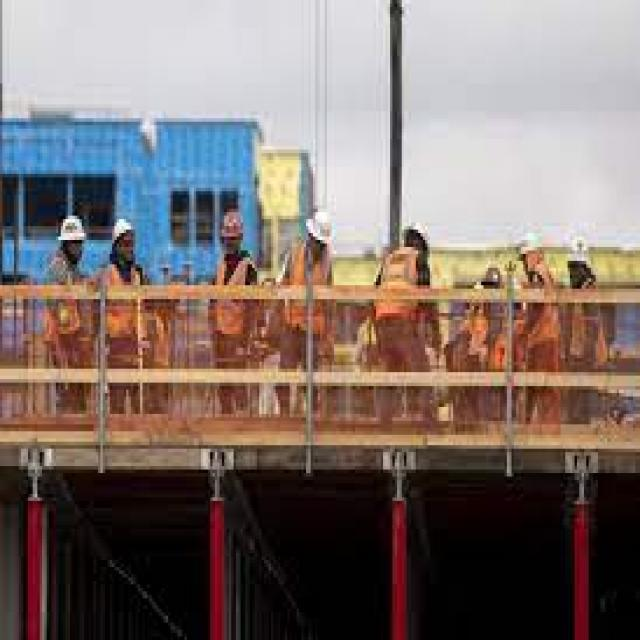Reflective-Jacket: (280, 249, 338, 349), (372, 243, 428, 341), (103, 258, 147, 358), (210, 250, 255, 344), (566, 279, 607, 370), (519, 273, 557, 350)
Safety-Helmet: (299, 202, 339, 254), (514, 227, 550, 276), (561, 225, 597, 271), (54, 209, 88, 250), (402, 212, 434, 254), (217, 205, 248, 244), (107, 212, 138, 247), (478, 258, 502, 300)
